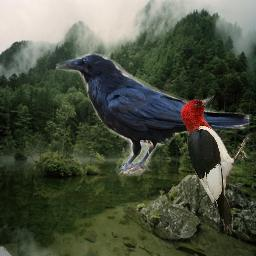Crow: (56, 53, 252, 177)
Woodpecker: (179, 94, 251, 235)
